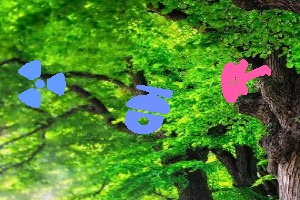吉他: (219, 60, 273, 103)
摄像头: (127, 84, 176, 135)
核辐射: (15, 60, 68, 105)
